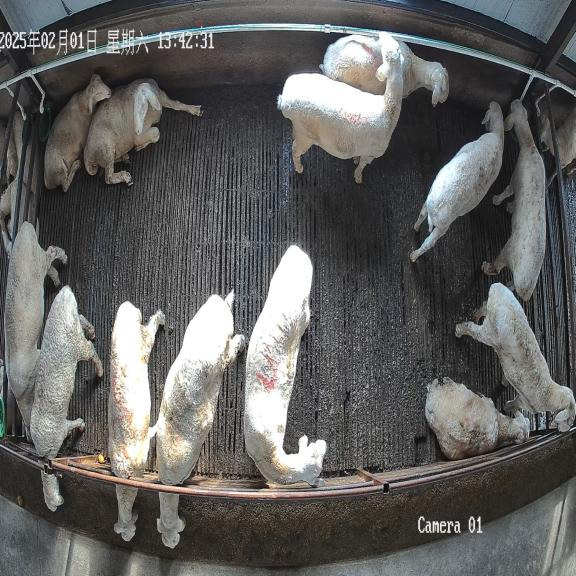drinking: (482, 100, 546, 301)
eating: (156, 290, 246, 548), (30, 285, 103, 511), (108, 302, 165, 541)
lying: (83, 79, 202, 185), (425, 377, 529, 460), (44, 74, 111, 191)
stand: (244, 245, 327, 485), (277, 33, 404, 183), (456, 283, 576, 431), (410, 102, 504, 262), (4, 221, 67, 442), (320, 32, 449, 106)
